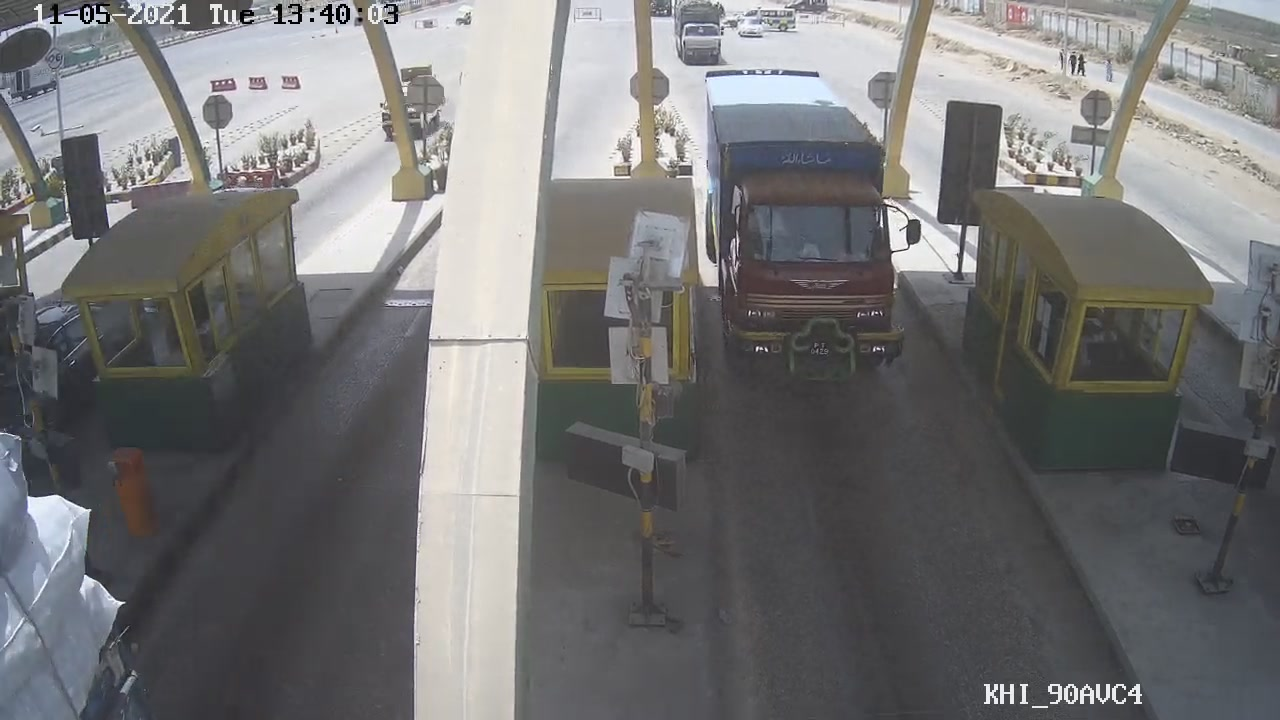F3: (697, 63, 924, 384)
